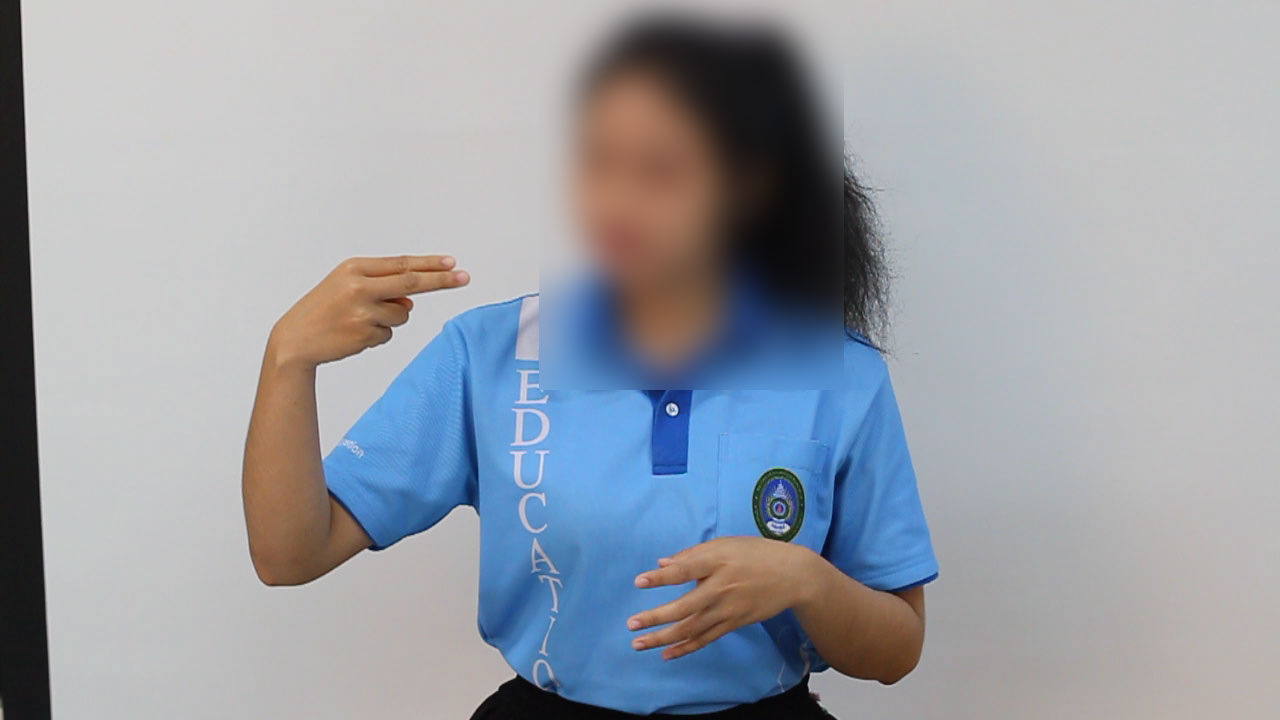hor: (233, 244, 489, 374)
